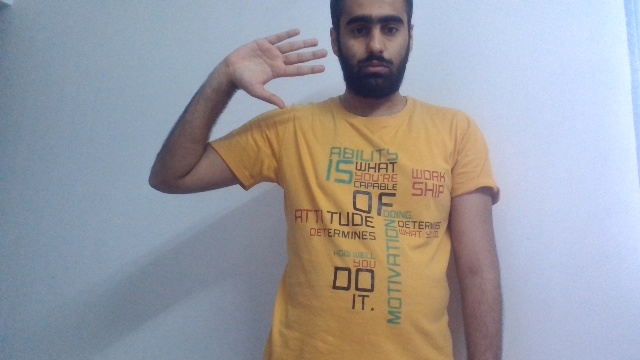paper: (226, 28, 327, 110)
